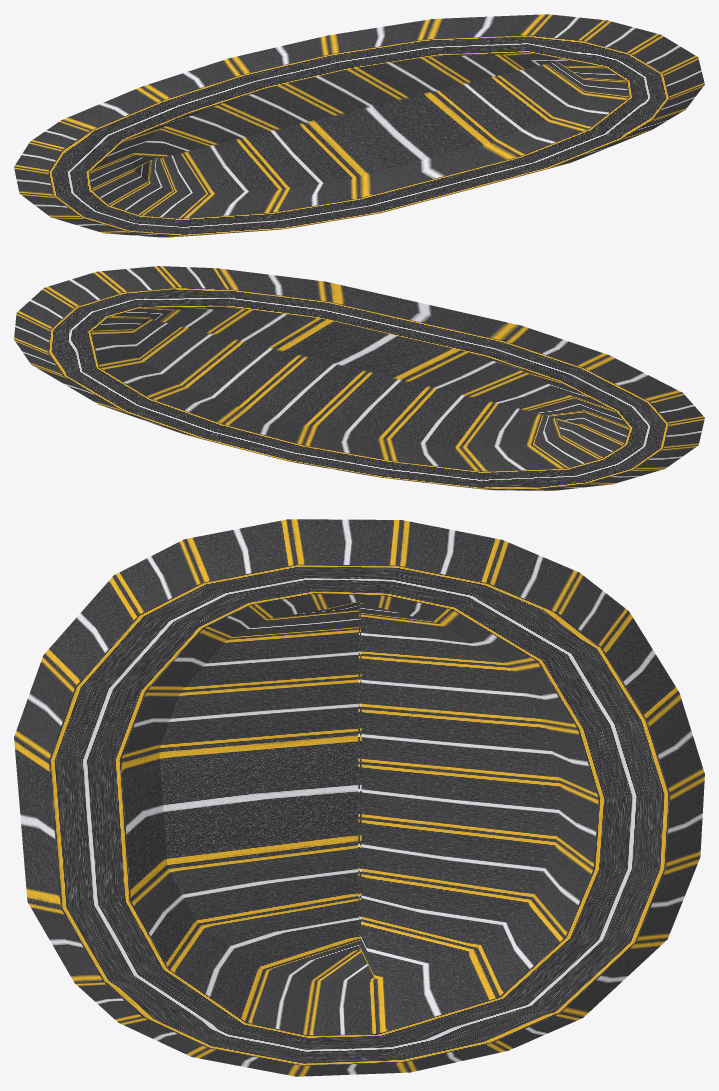
File: need 1.fbx
The picture shows the model from 3 angles, top to bottom: view 1: azimuth 30°, elevation 25°; view 2: azimuth 150°, elevation 25°; view 3: azimuth 270°, elevation 25°; orthographic projection. The views are drawn at different scales.
Parts seen in each view (by area): view 1: loftedSurface1; view 2: loftedSurface1; view 3: loftedSurface1.
Part boxes in pixels (x1=…): loftedSurface1: x1=14, y1=14, x2=704, y2=237; loftedSurface1: x1=14, y1=266, x2=704, y2=490; loftedSurface1: x1=14, y1=519, x2=704, y2=1076.
Bounding box in the file's own units: 36.52 × 1.2 × 19.13.
Materials: 1 (1 with a texture image).
